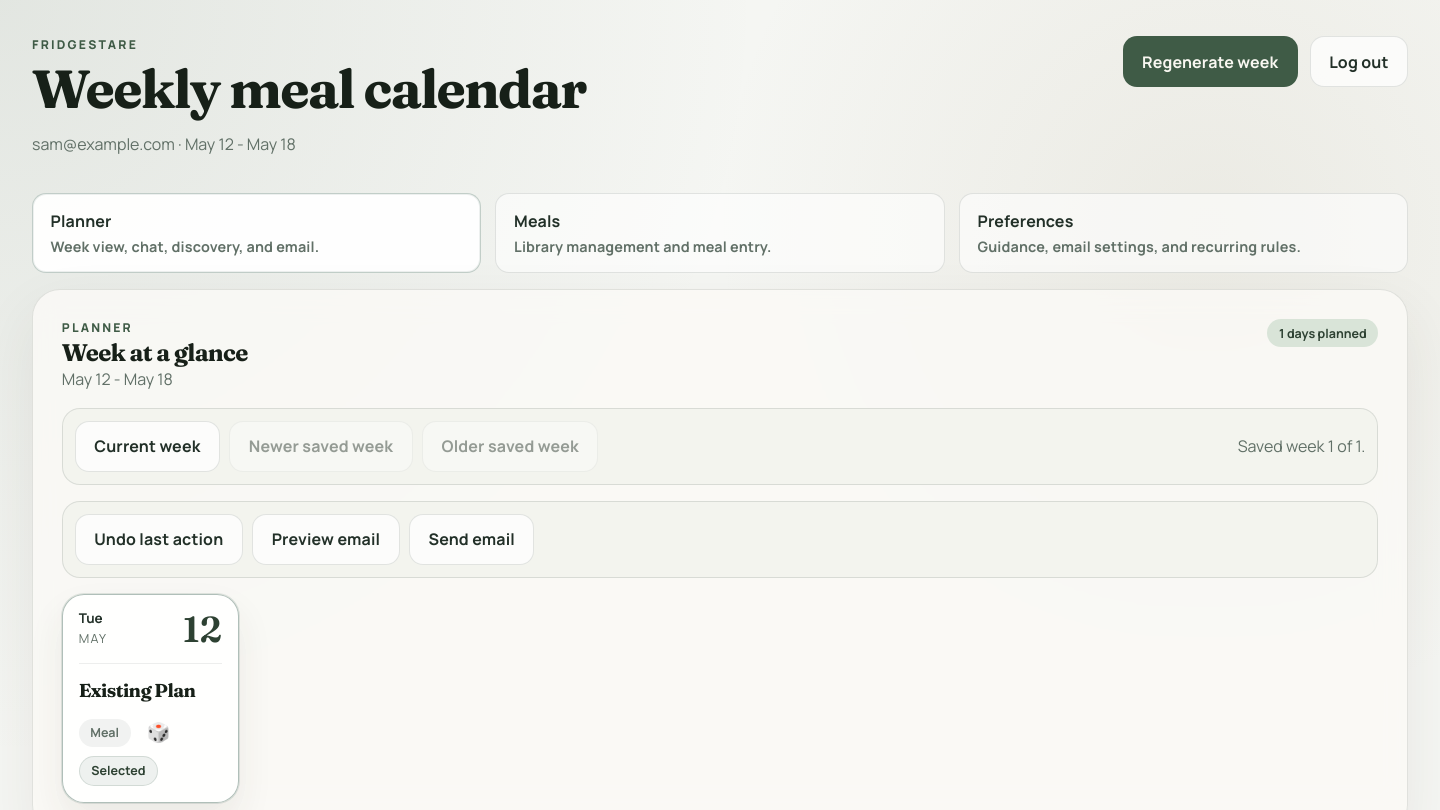
Test case: App › regenerates an existing week from the planner toolbar
The image size is (1440, 810).
Click the button "Regenerate week" at (1210, 62), box [1122,36,1298,87]
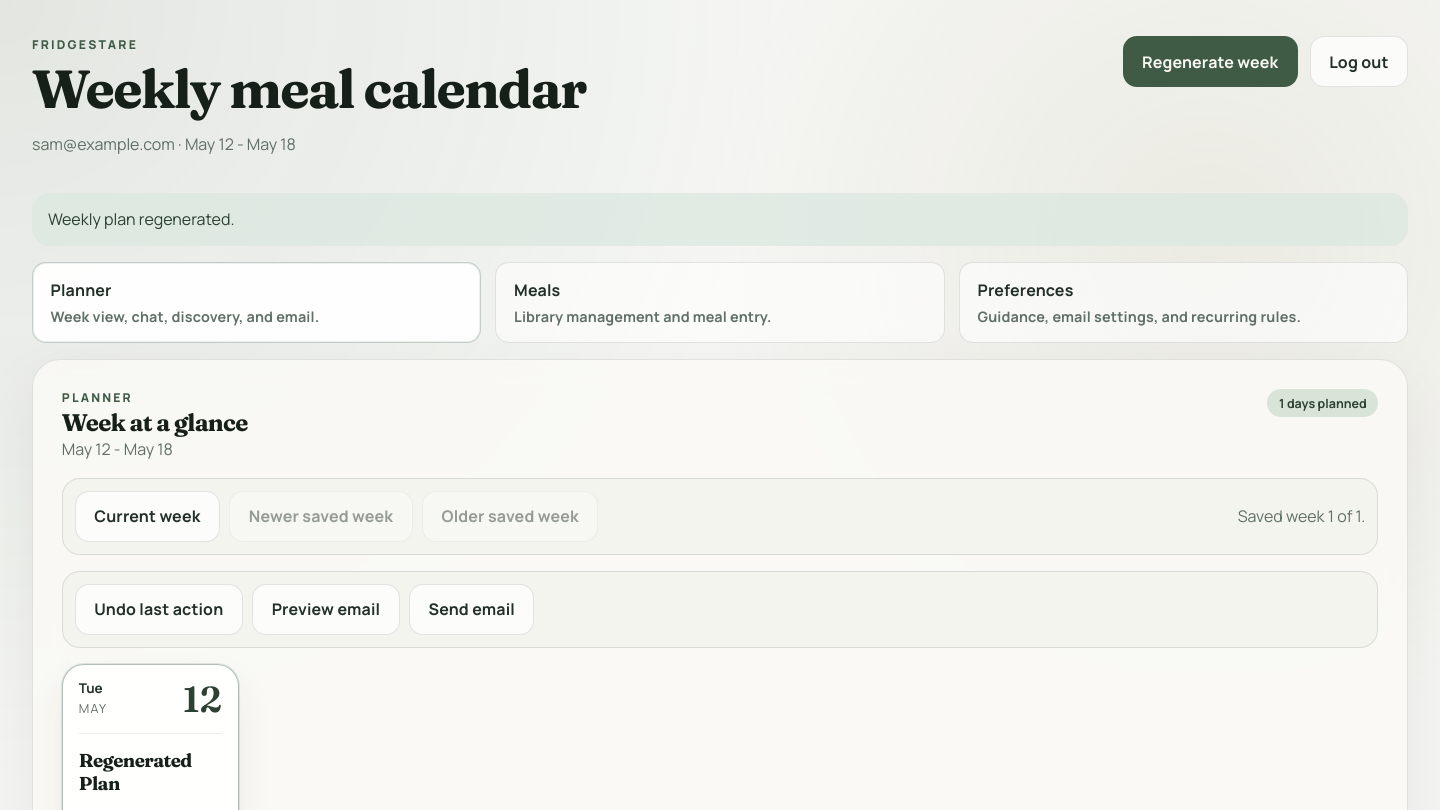
Expected: the text "Weekly plan regenerated." is shown, [32,193,1408,246]
Expected: the heading "Regenerated Plan" is shown, [79,749,192,795]
